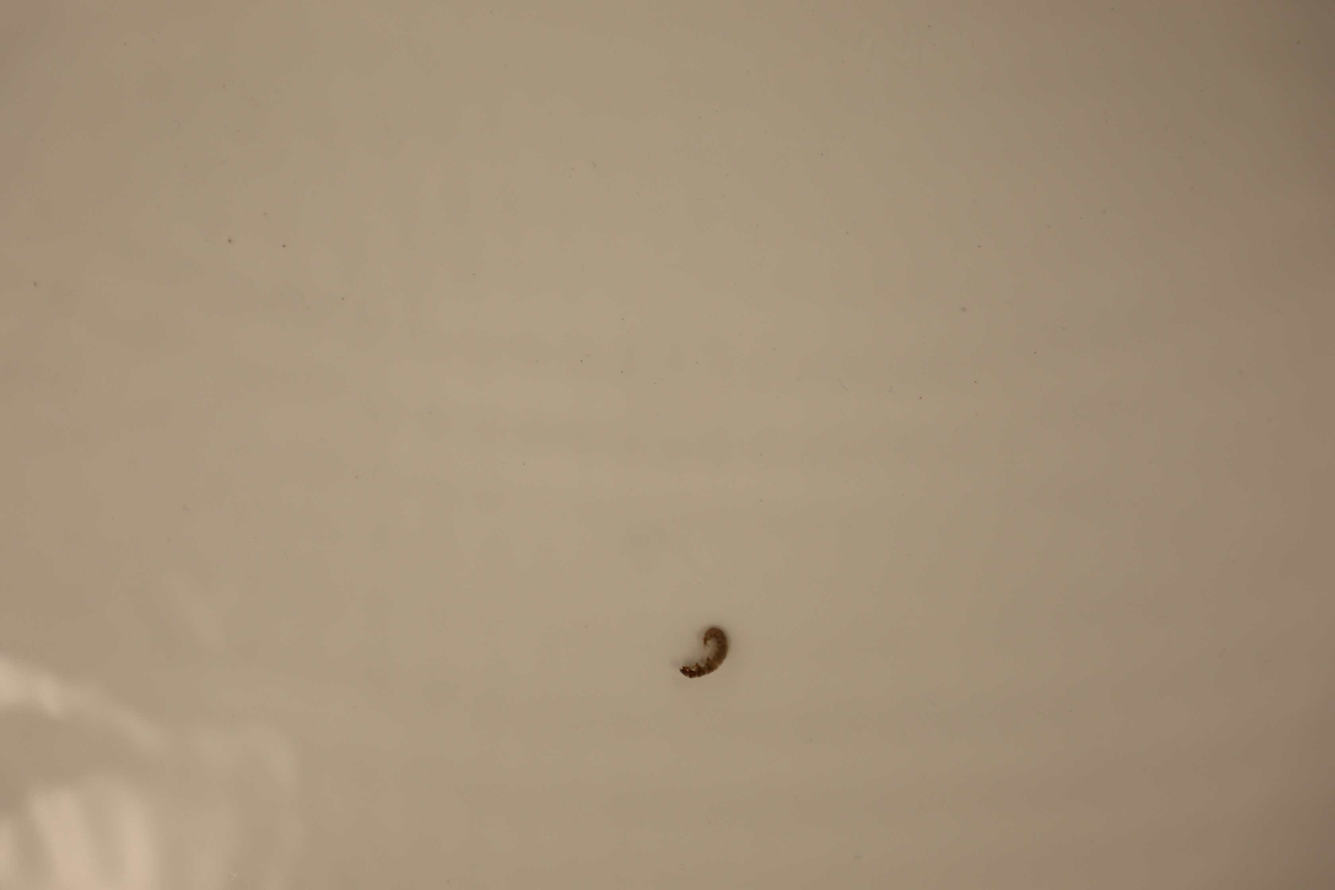Cadisfly: (677, 619, 731, 680)
